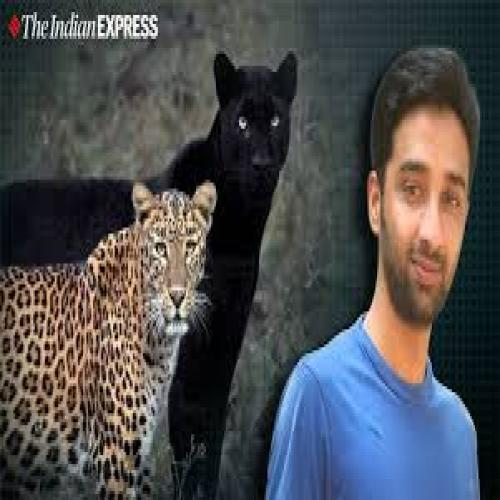panther-endangered: (0, 48, 299, 494)
